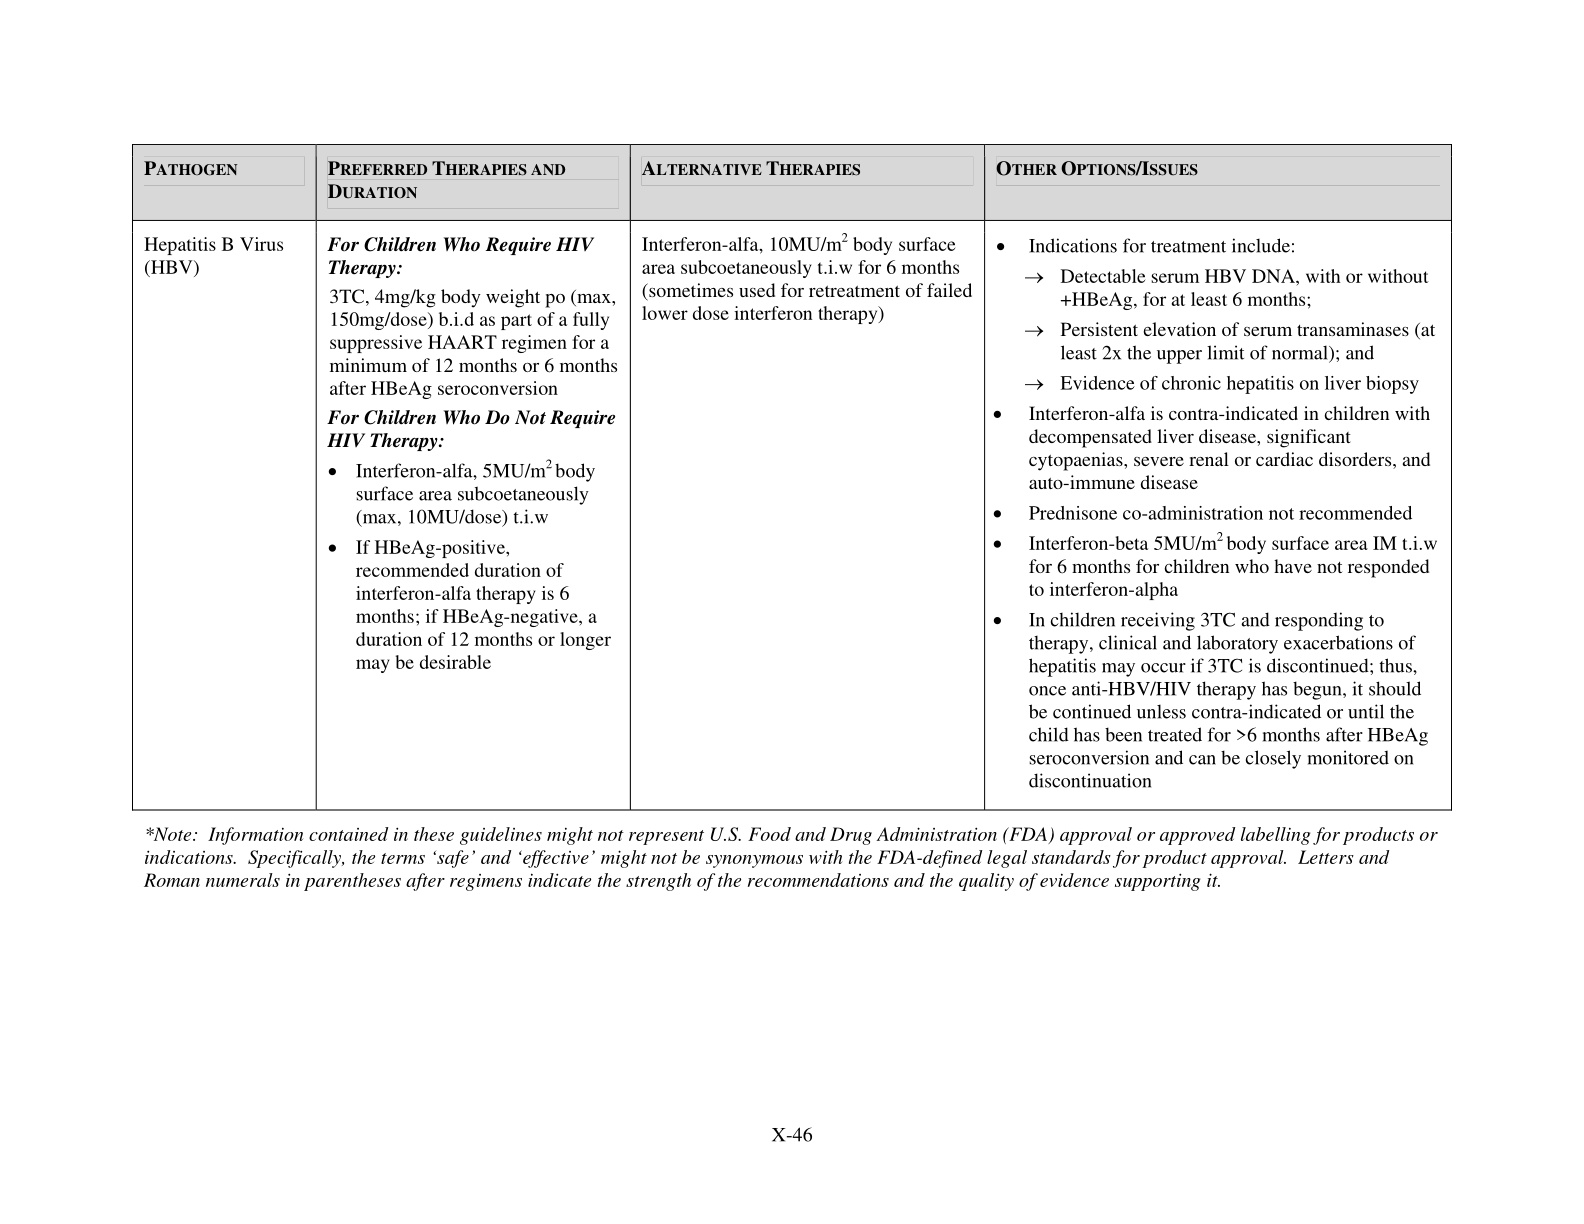full_lined: (132, 144, 1452, 811)
